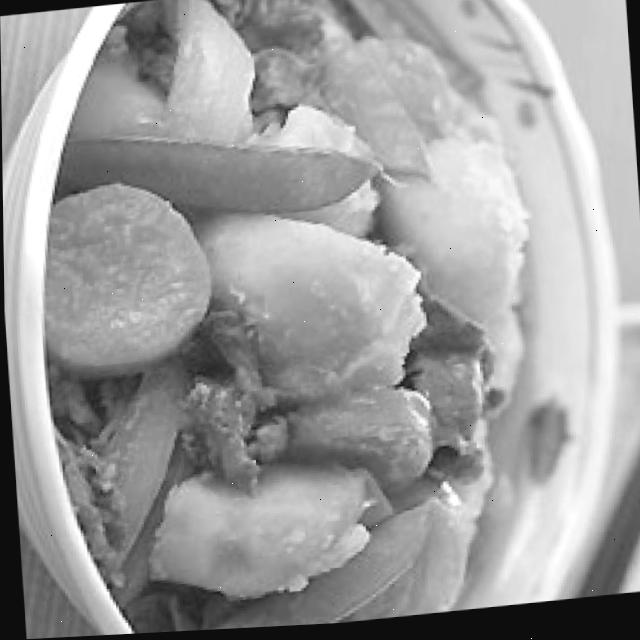牛肉菜式: (0, 0, 627, 640)
